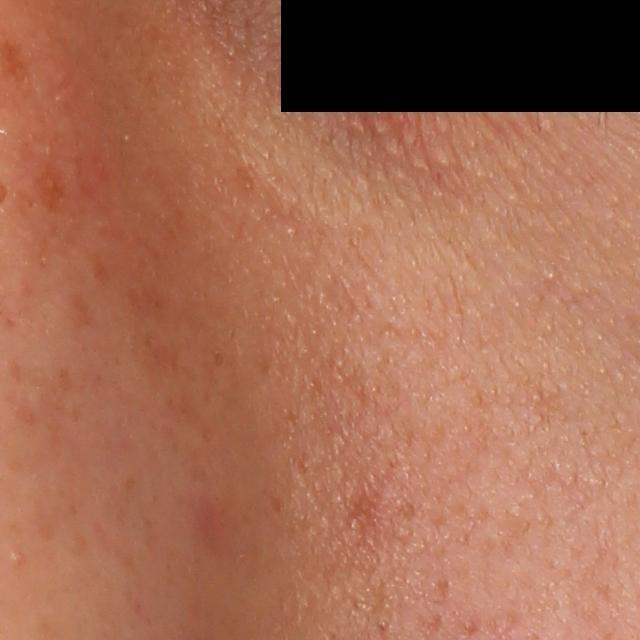melasma: (123, 257, 171, 325), (28, 162, 66, 217), (70, 290, 101, 332), (82, 247, 110, 280)
